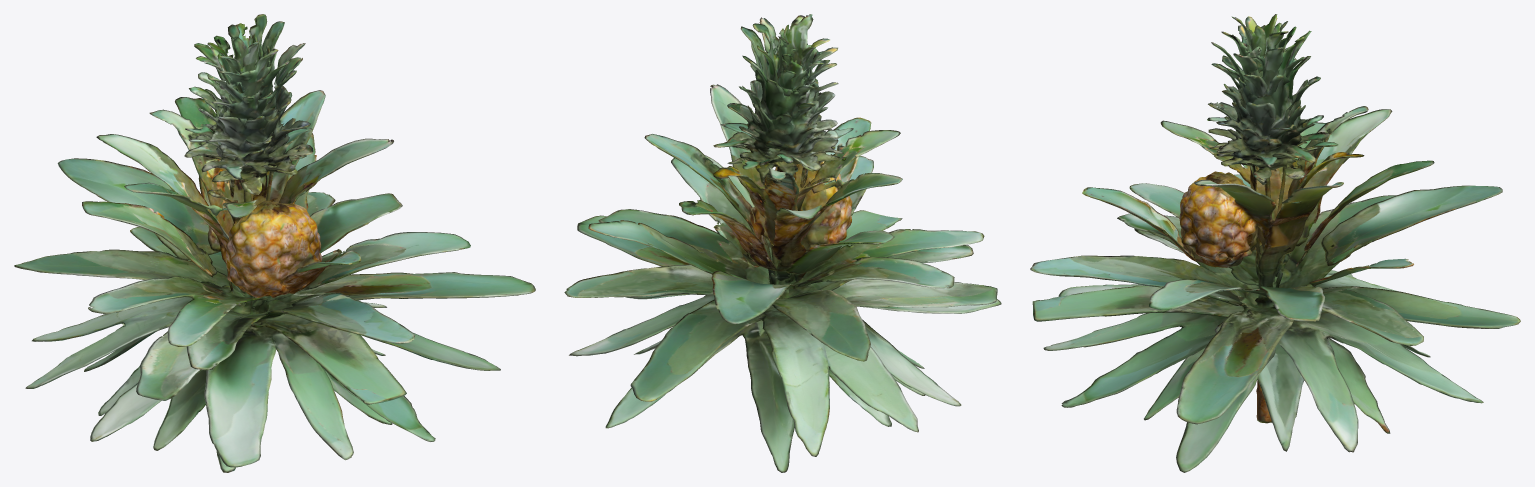
The model's file is ananas.glb.
The picture shows the model from 3 angles, left to right: view 1: azimuth 30°, elevation 25°; view 2: azimuth 150°, elevation 25°; view 3: azimuth 270°, elevation 25°; orthographic projection. The views are drawn at different scales.
Size of the model in its own units: 1.97 by 1.79 by 2.
1 material, 1 textured.
